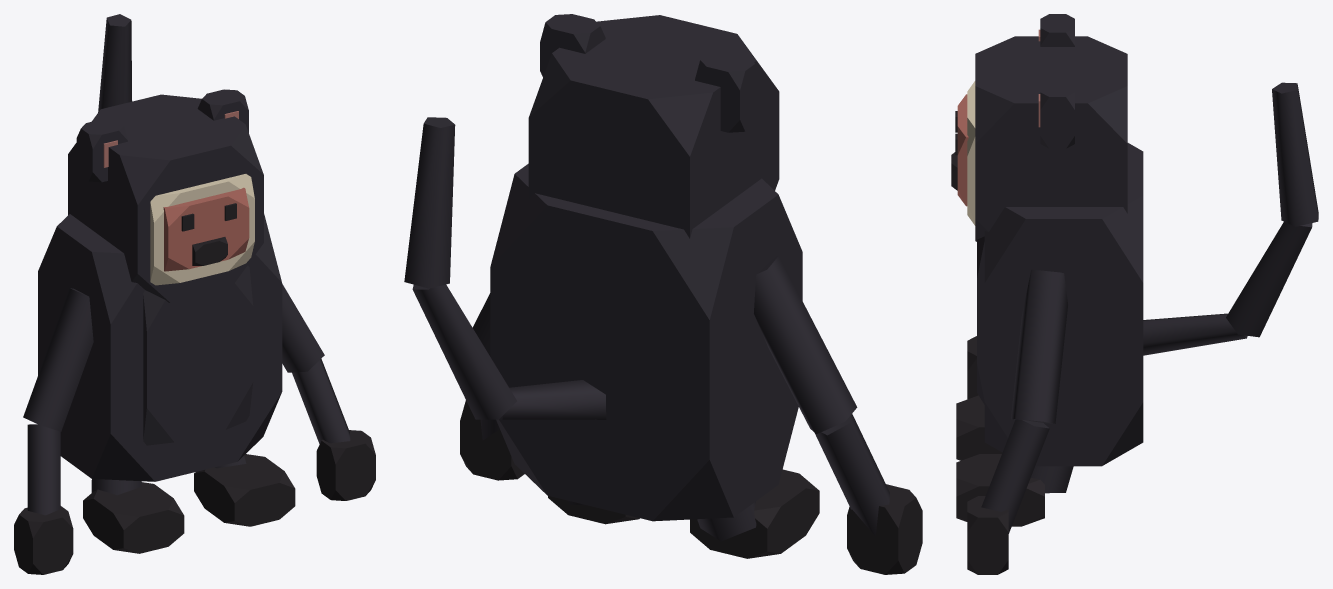
Rendered from original-spider.glb.
3 renders of one model, left to right at view 1: azimuth 30°, elevation 25°; view 2: azimuth 150°, elevation 25°; view 3: azimuth 270°, elevation 25°, orthographic. The views are drawn at different scales.
Visible parts, largest first — view 1: spider; view 2: spider; view 3: spider.
Part boxes in pixels (x1,y1,x2,y2): spider: (14,14,375,574); spider: (404,14,922,574); spider: (951,14,1318,574).
Bounding box in the file's own units: 1.36 × 1.49 × 1.16.
